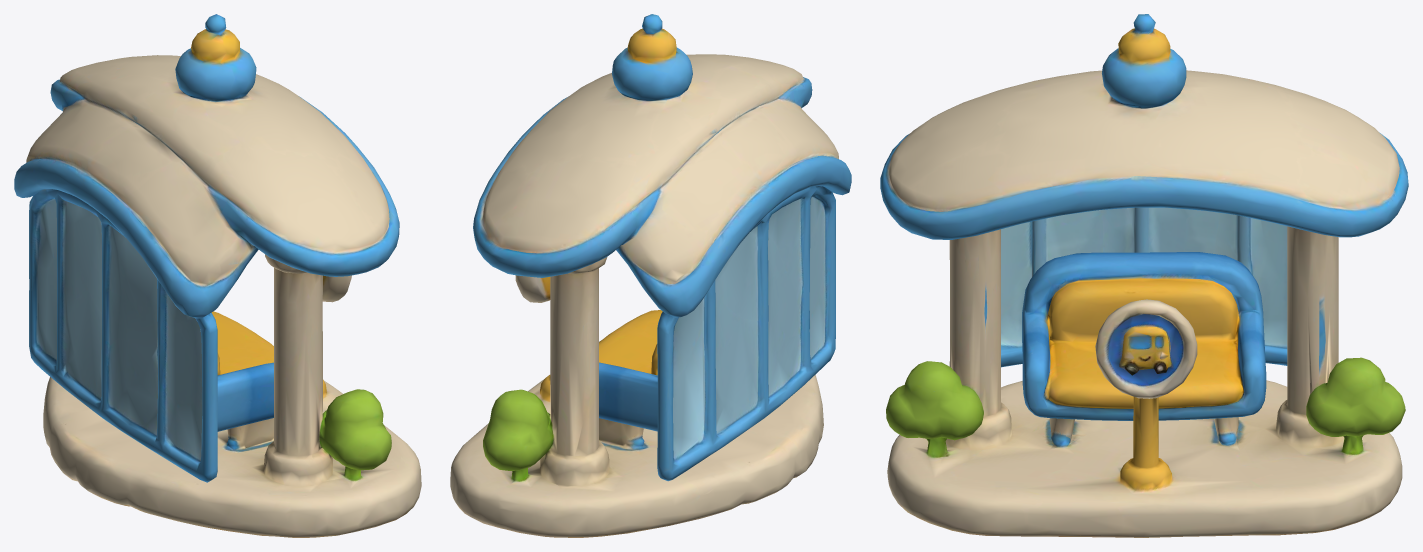
File: bus_stop.glb
3 views of the same model, side by side, from view 1: azimuth 30°, elevation 25°; view 2: azimuth 150°, elevation 25°; view 3: azimuth 270°, elevation 25° (orthographic). The views are drawn at different scales.
Parts seen in each view (by area): view 1: tripo_node_ef8a71d8-739b-40d1-b7a8-1bb66fb6ad4d; view 2: tripo_node_ef8a71d8-739b-40d1-b7a8-1bb66fb6ad4d; view 3: tripo_node_ef8a71d8-739b-40d1-b7a8-1bb66fb6ad4d.
Boxes of the visible parts, left/top/right/bottom form: tripo_node_ef8a71d8-739b-40d1-b7a8-1bb66fb6ad4d: left=14, top=14, right=421, bottom=537; tripo_node_ef8a71d8-739b-40d1-b7a8-1bb66fb6ad4d: left=450, top=14, right=851, bottom=537; tripo_node_ef8a71d8-739b-40d1-b7a8-1bb66fb6ad4d: left=880, top=14, right=1408, bottom=537.
Bounding box in the file's own units: 0.195 × 0.3 × 0.3107.
1 material, 1 textured.
